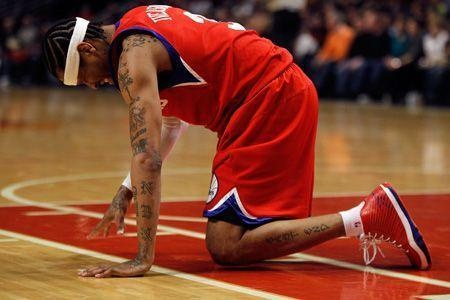falling: (48, 2, 446, 268)
